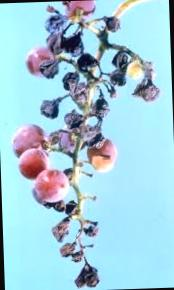Grape Rotten: (6, 0, 167, 290)
